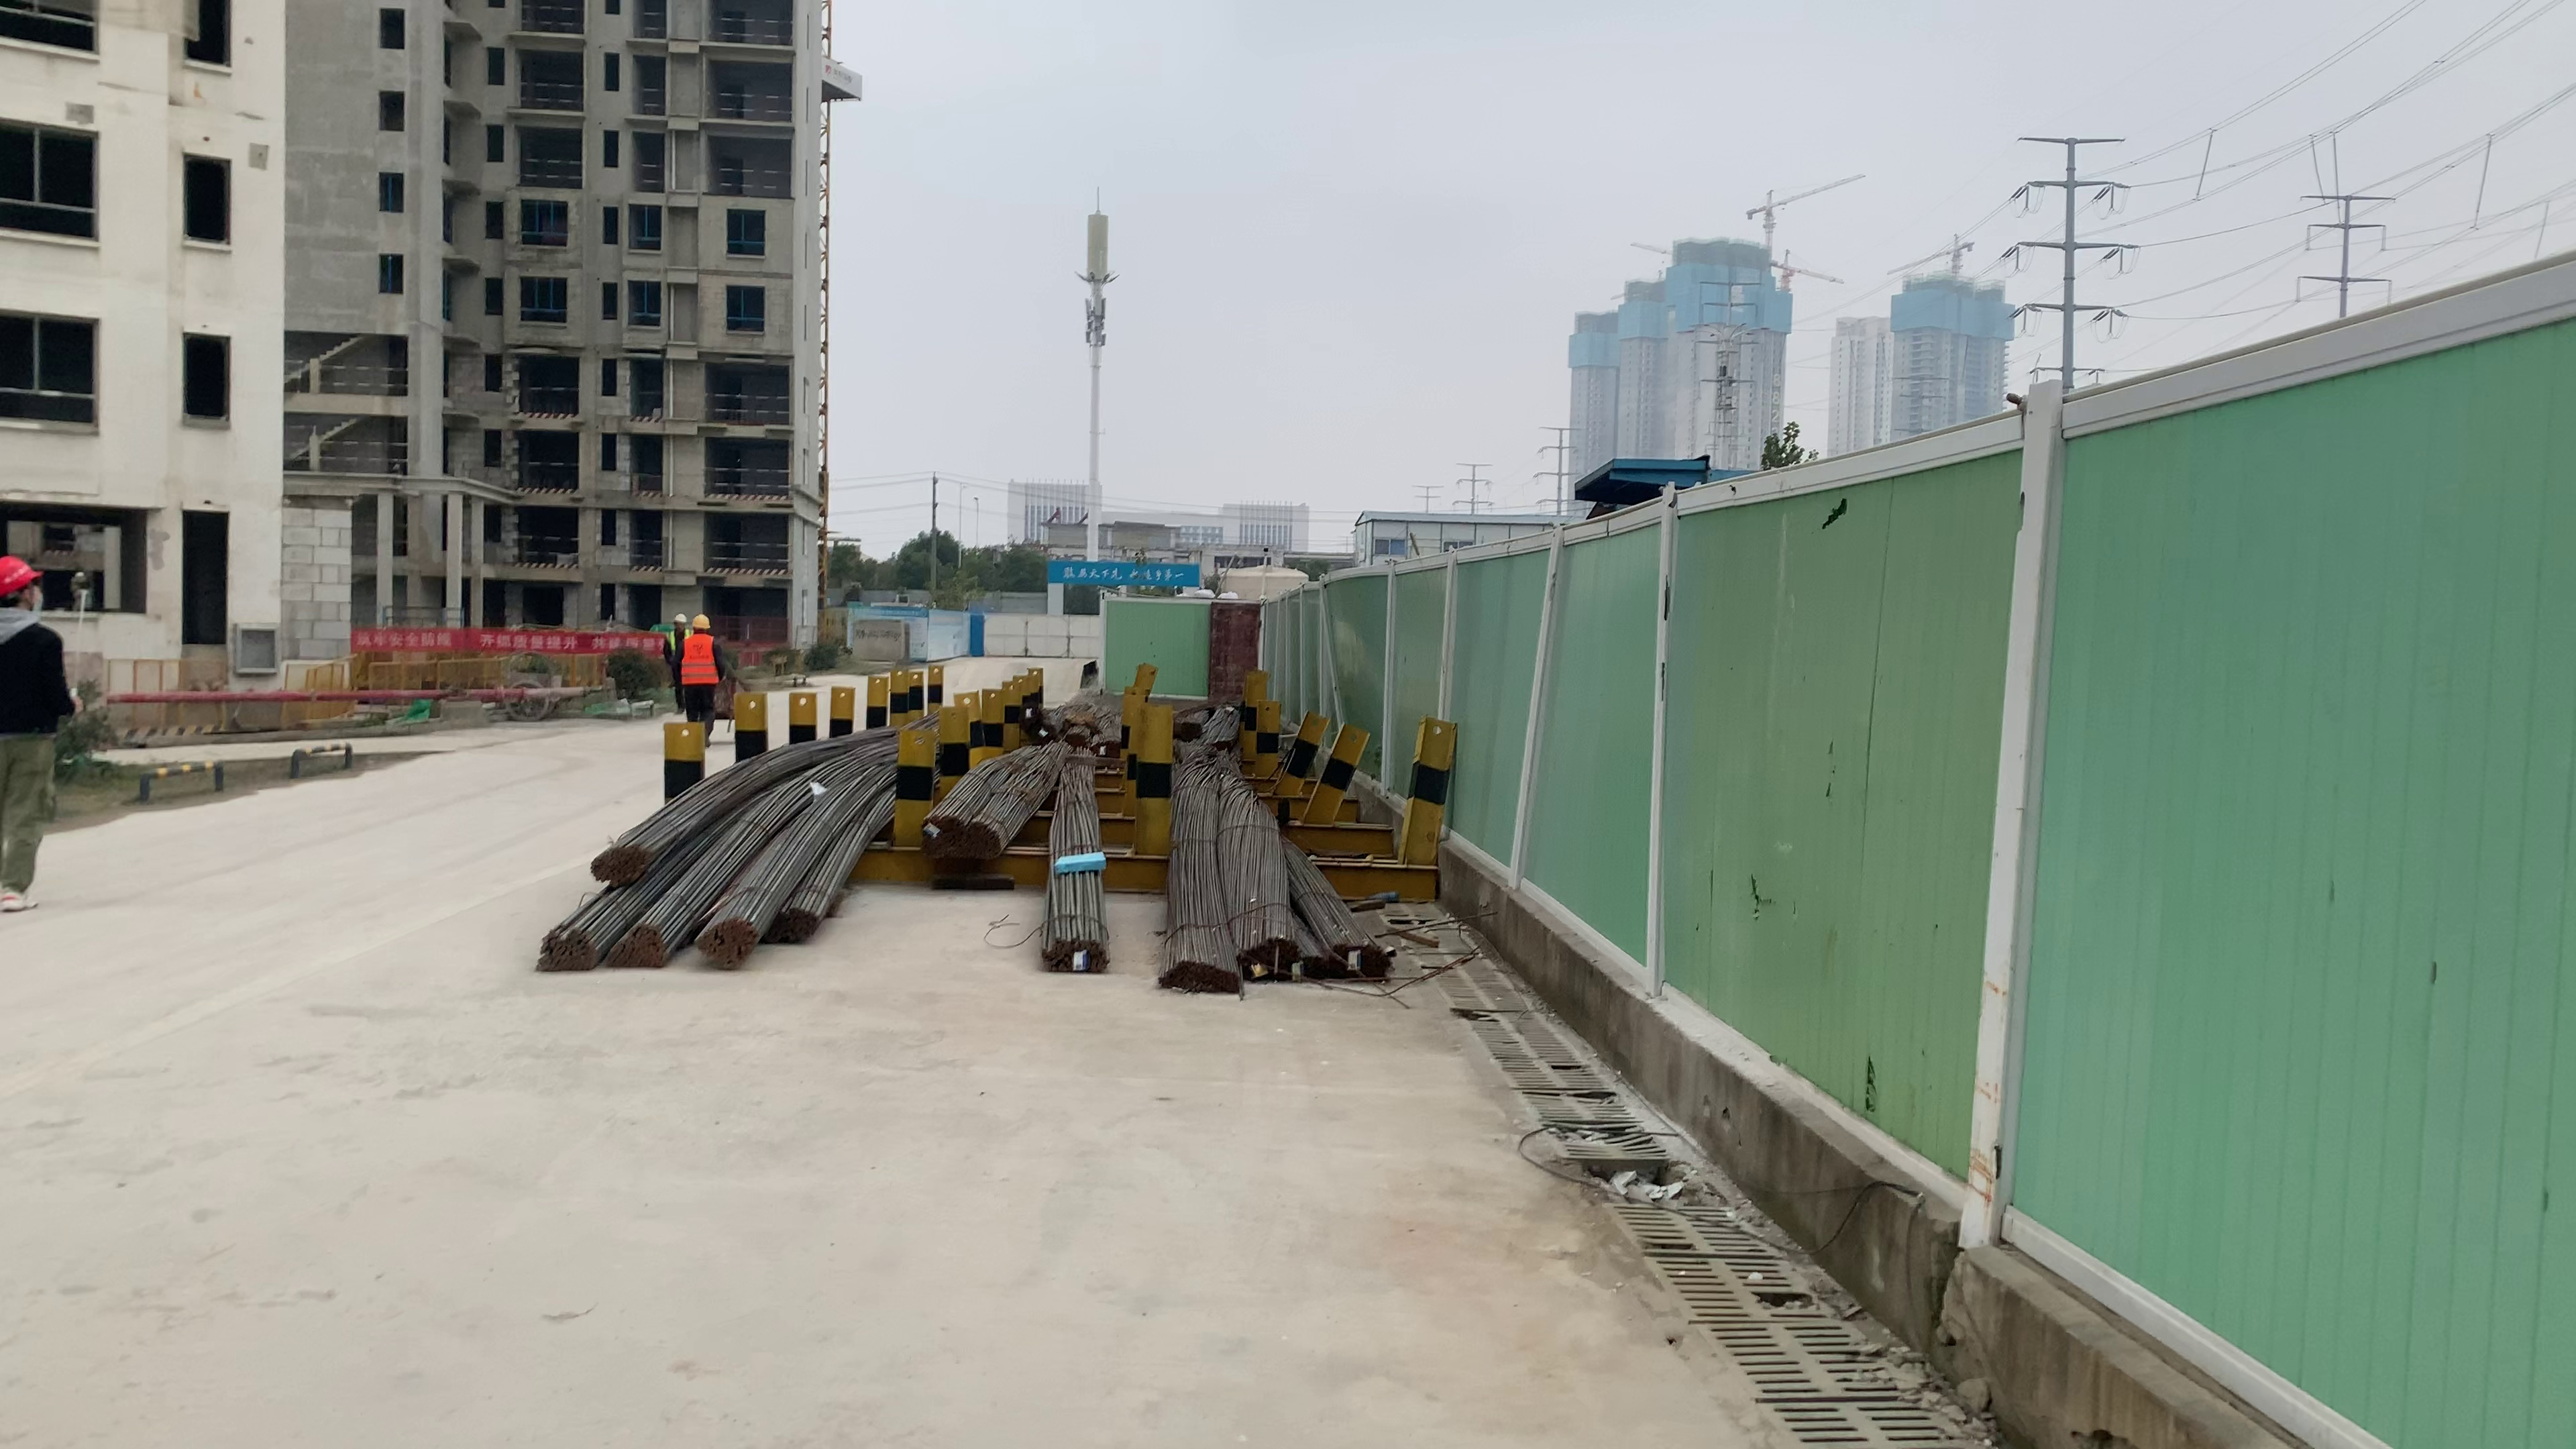rebar: (1164, 952, 1244, 1001), (1313, 938, 1392, 985), (694, 918, 761, 971), (584, 837, 655, 885), (1042, 929, 1115, 973), (531, 929, 600, 973), (610, 924, 669, 975), (770, 902, 830, 943), (918, 810, 962, 860), (1244, 938, 1293, 982), (970, 817, 1005, 867)
